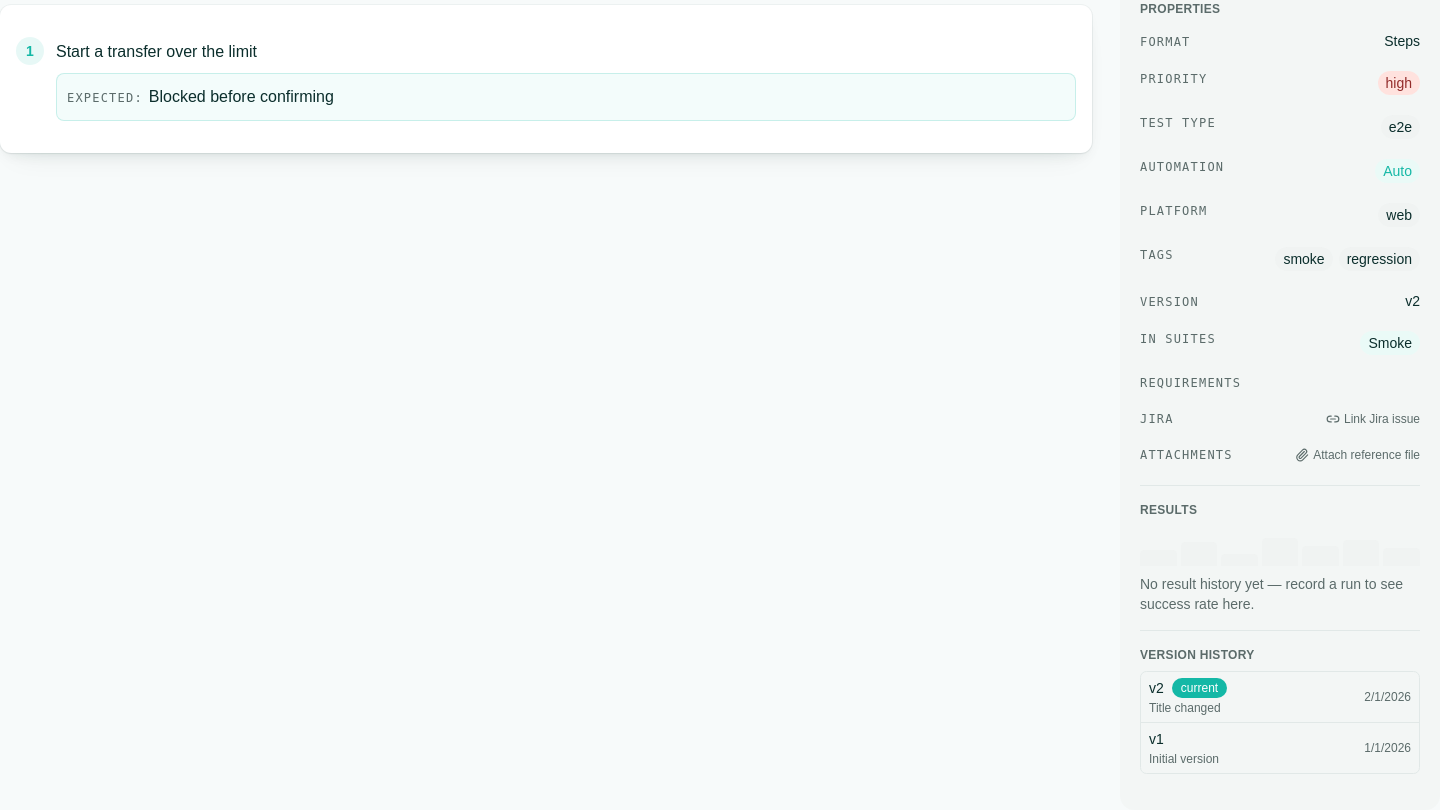
Scenario: CaseDetailPage › clicking a version row expands an inline diff without opening a dialog
(page scrolled)
Click the text "v2" below "Version history".
click(1156, 688)  # box [1149,678,1164,698]
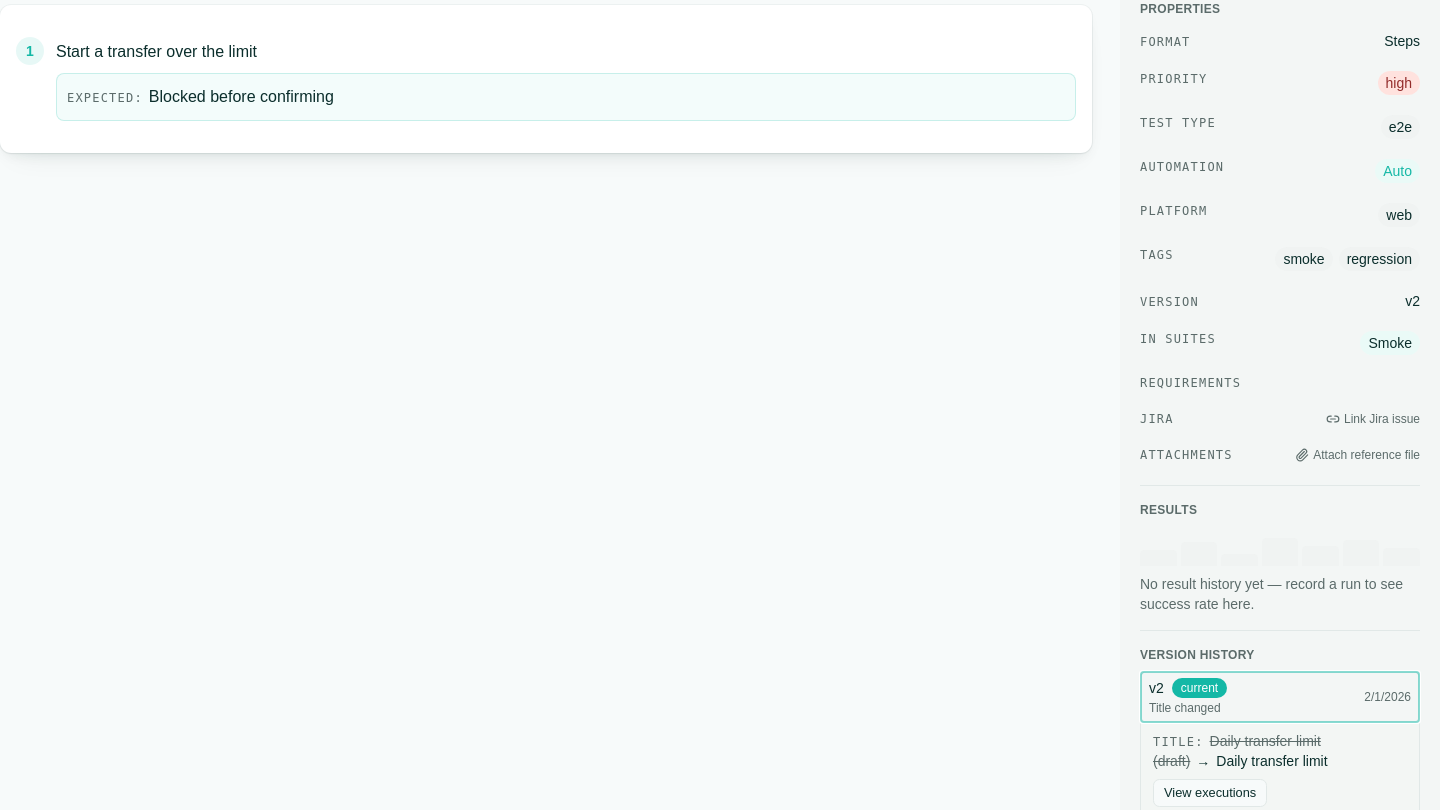
Check: the text "Daily transfer limit (draft)" is shown, box [1153,733,1321,769]
Check: the text "Daily transfer limit" is shown, box [1216,753,1328,769]
Click the text "v2" below "Version history".
click(1156, 688)  # box [1149,678,1164,698]
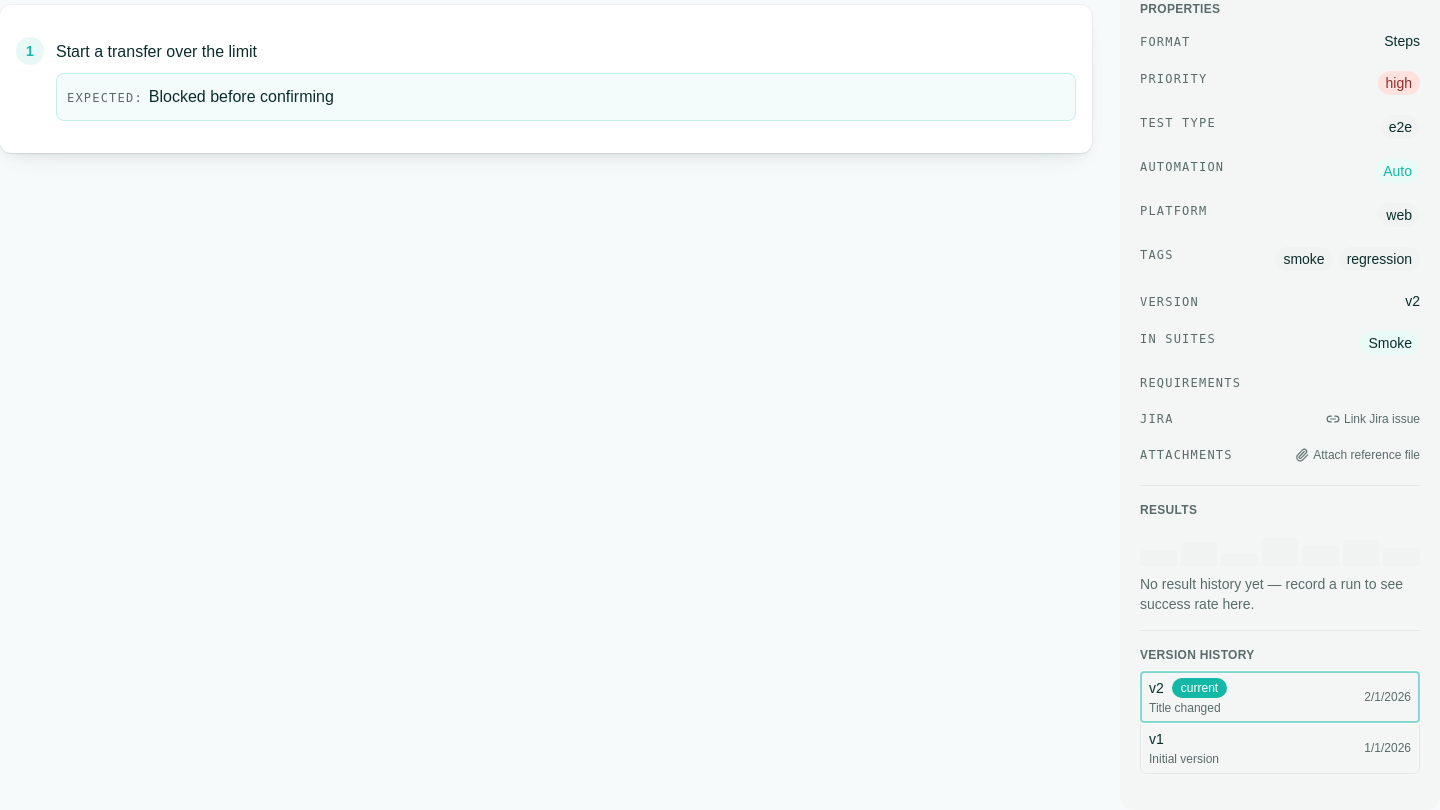
Check: the text "Daily transfer limit (draft)" is gone
